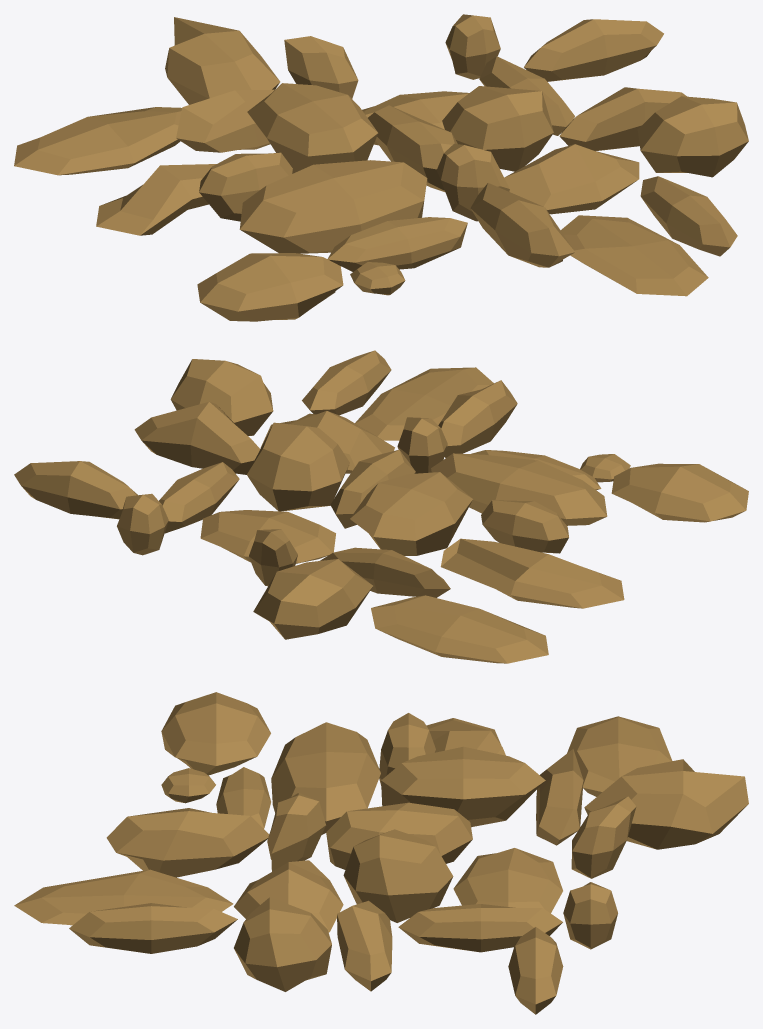
File: floor_stone.fbx
3 views of the same model, one above another, from view 1: azimuth 30°, elevation 25°; view 2: azimuth 150°, elevation 25°; view 3: azimuth 270°, elevation 25° (orthographic). The views are drawn at different scales.
Parts seen in each view (by area): view 1: floor_ston_1:polySurface1; view 2: floor_ston_1:polySurface1; view 3: floor_ston_1:polySurface1.
Boxes of the visible parts, x1,y1,x2,y2 form: floor_ston_1:polySurface1: [14, 14, 748, 321]; floor_ston_1:polySurface1: [14, 350, 748, 663]; floor_ston_1:polySurface1: [14, 692, 748, 1014].
Bounding box in the file's own units: 7.11 × 0.879 × 7.17.
